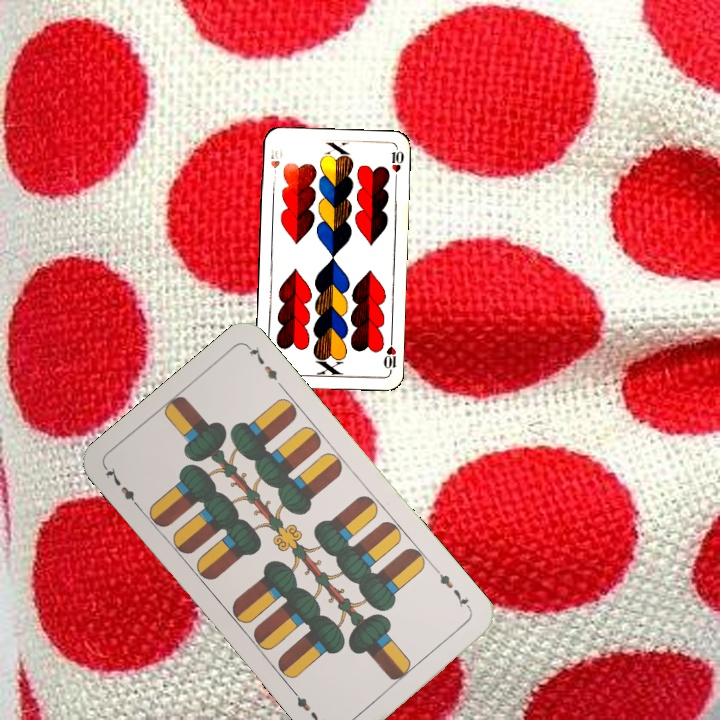E7: (431, 565, 475, 614), (101, 463, 144, 513)
H10: (379, 334, 399, 375), (267, 144, 285, 182)
